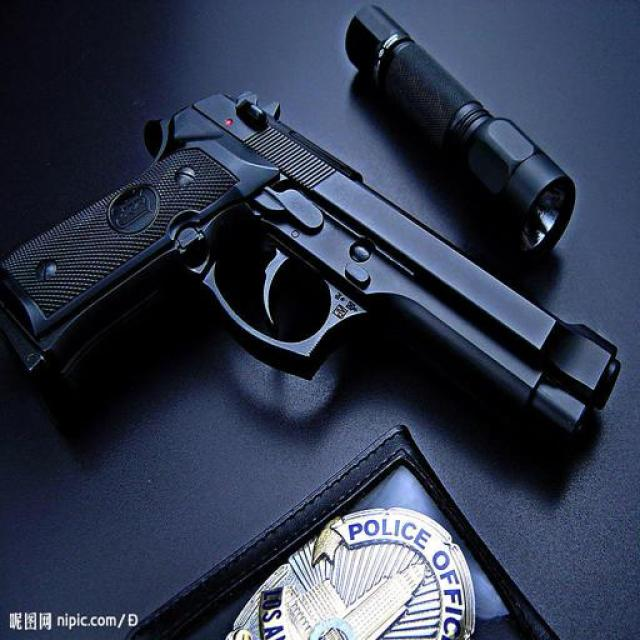pistol: (1, 90, 620, 460)
